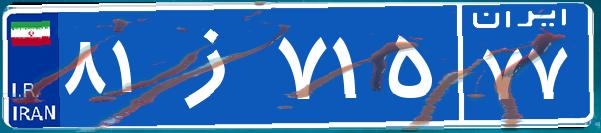1: (330, 28, 385, 110), (110, 28, 158, 105)
5: (385, 28, 445, 110)
7: (273, 28, 330, 110), (475, 38, 525, 113), (525, 38, 570, 115)
8: (57, 26, 110, 107)
ز: (158, 15, 273, 115)
